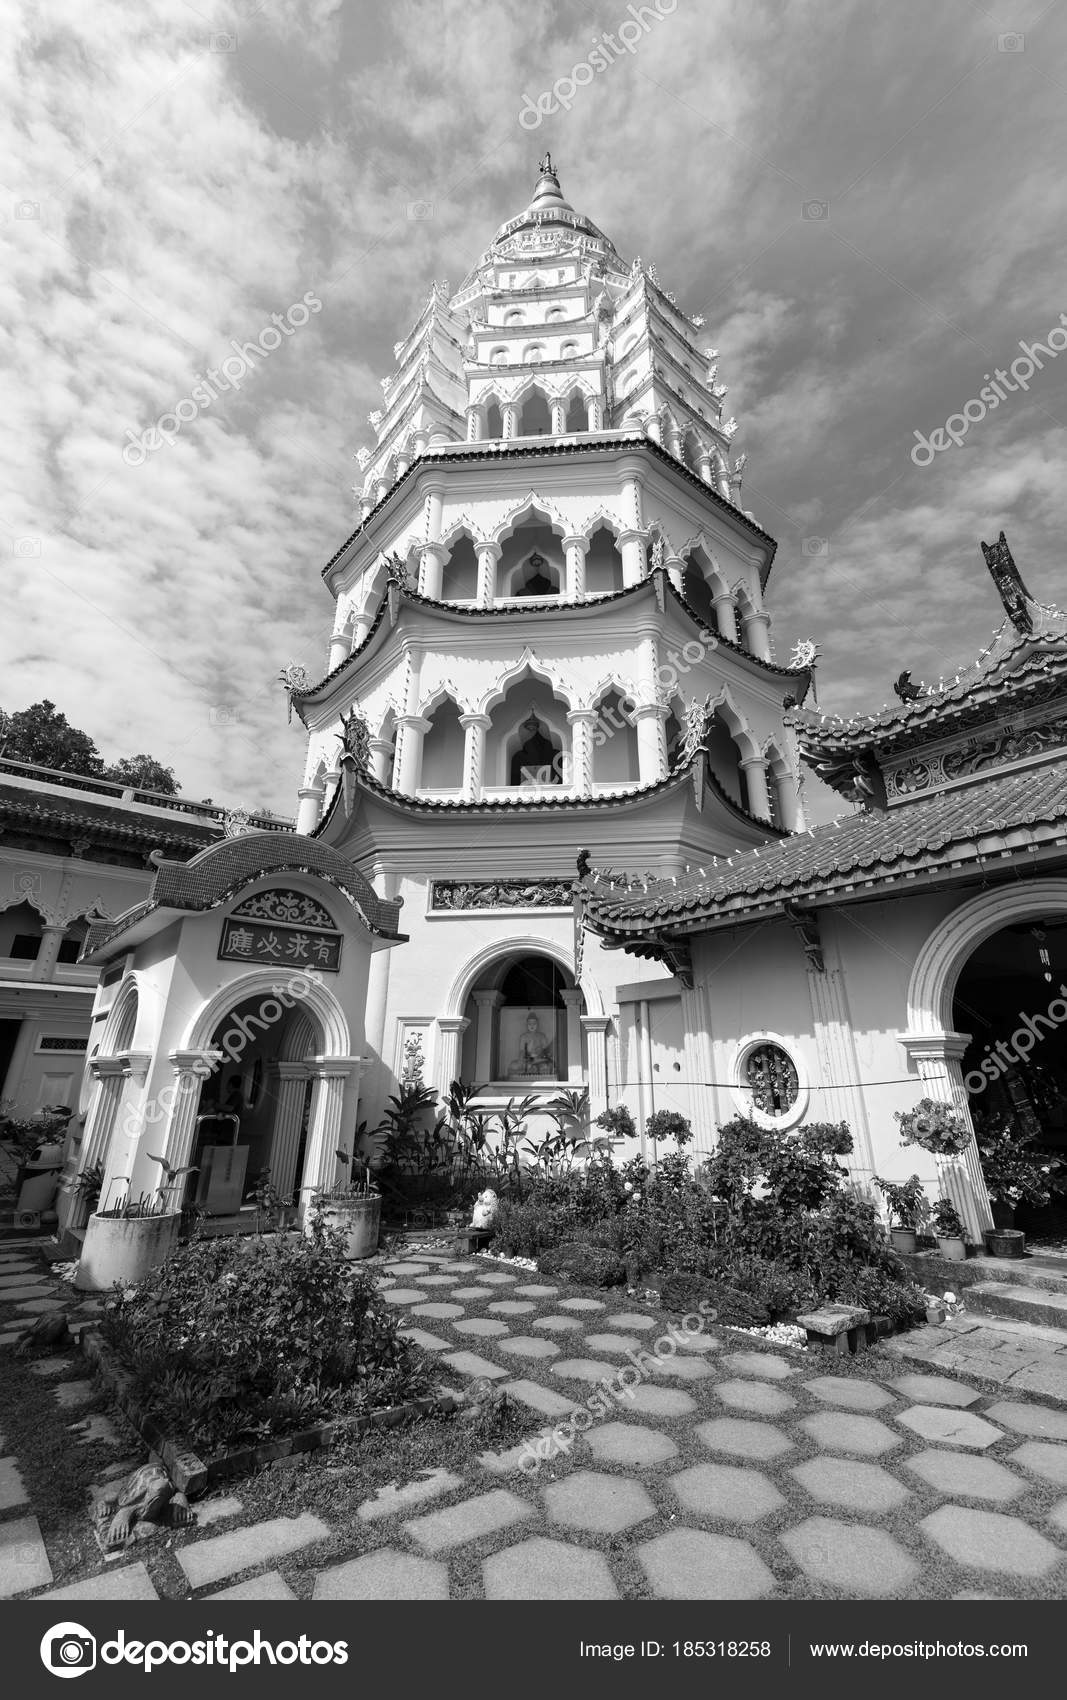Buddhist Temple: (264, 144, 832, 1144)
